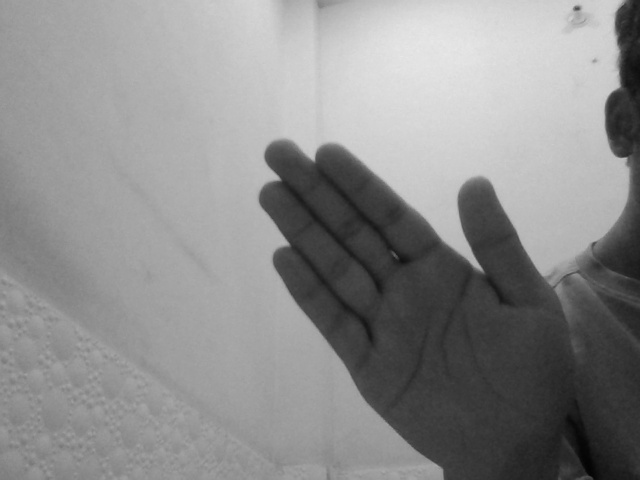Hello: (253, 133, 576, 464)
